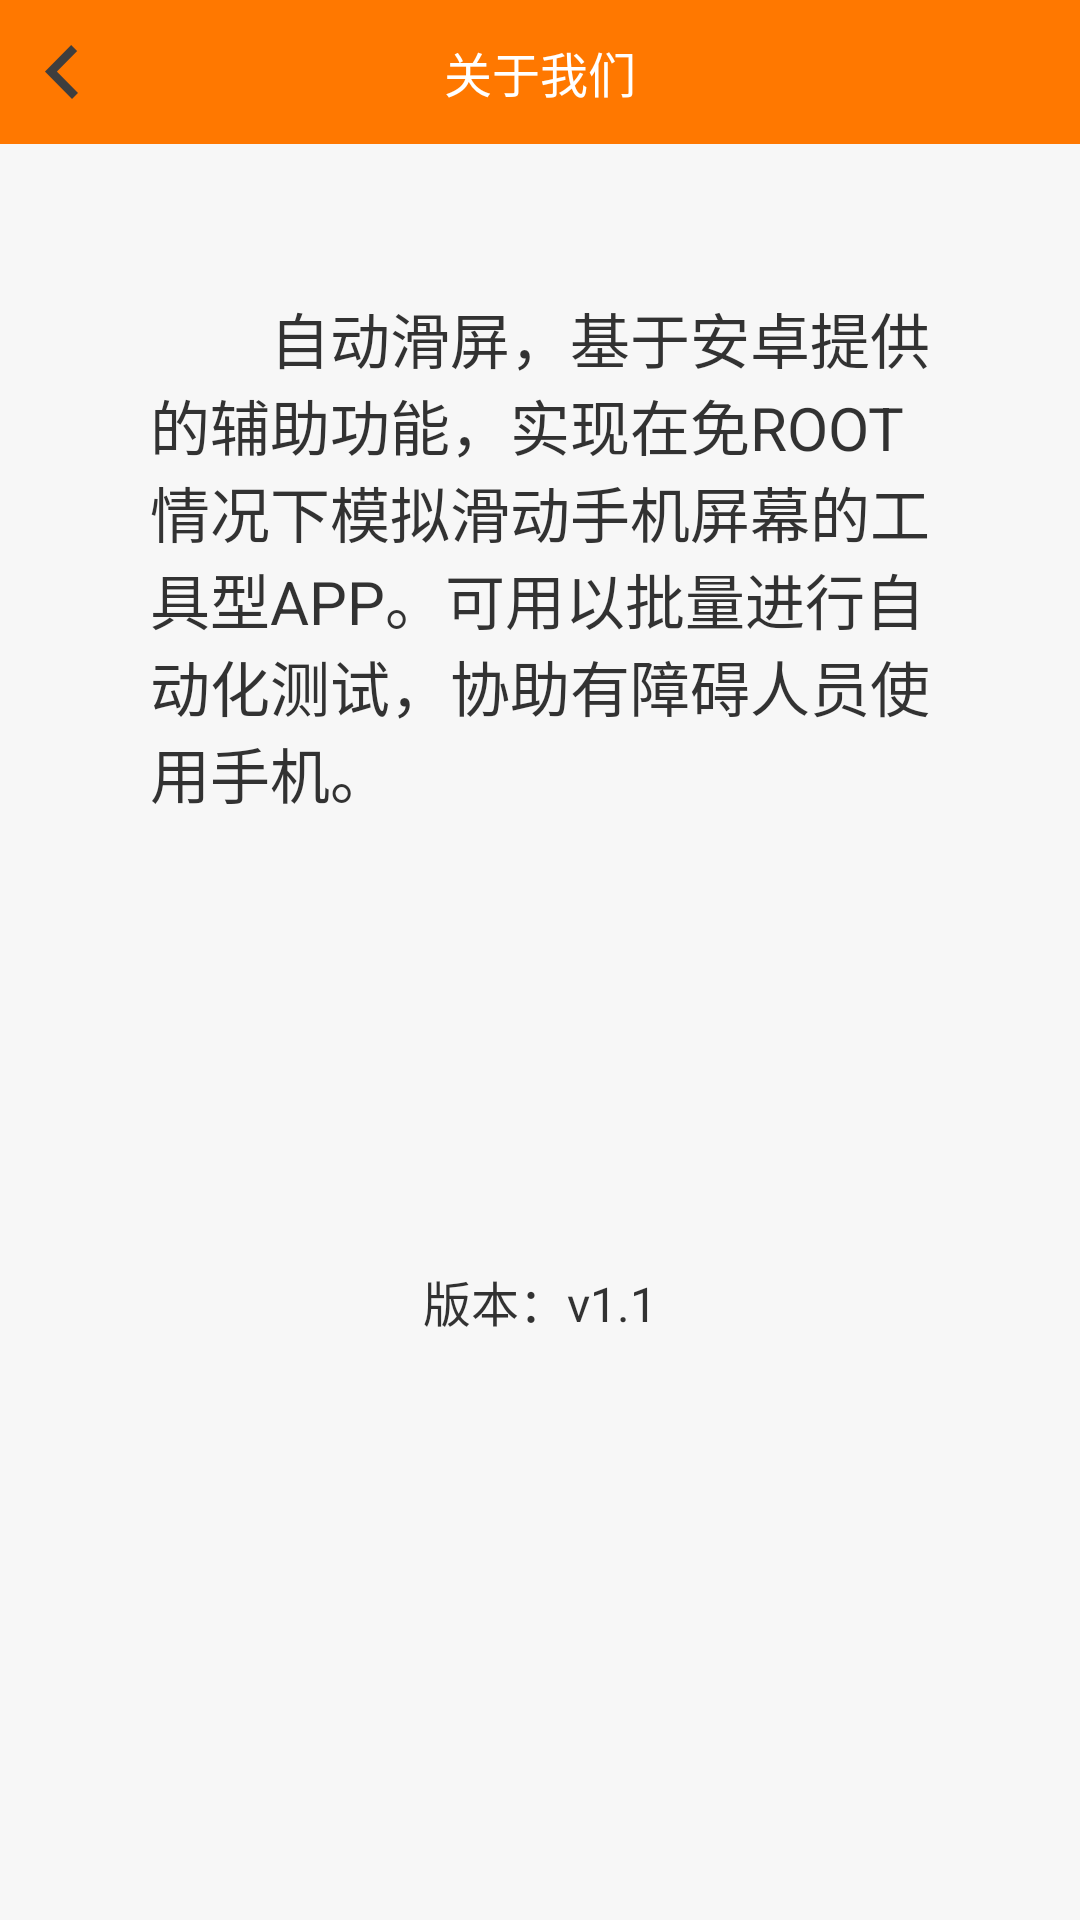

Named icons in this screenshot (1080 × 1920) and their centers, (x,y):
back: (61,72)
